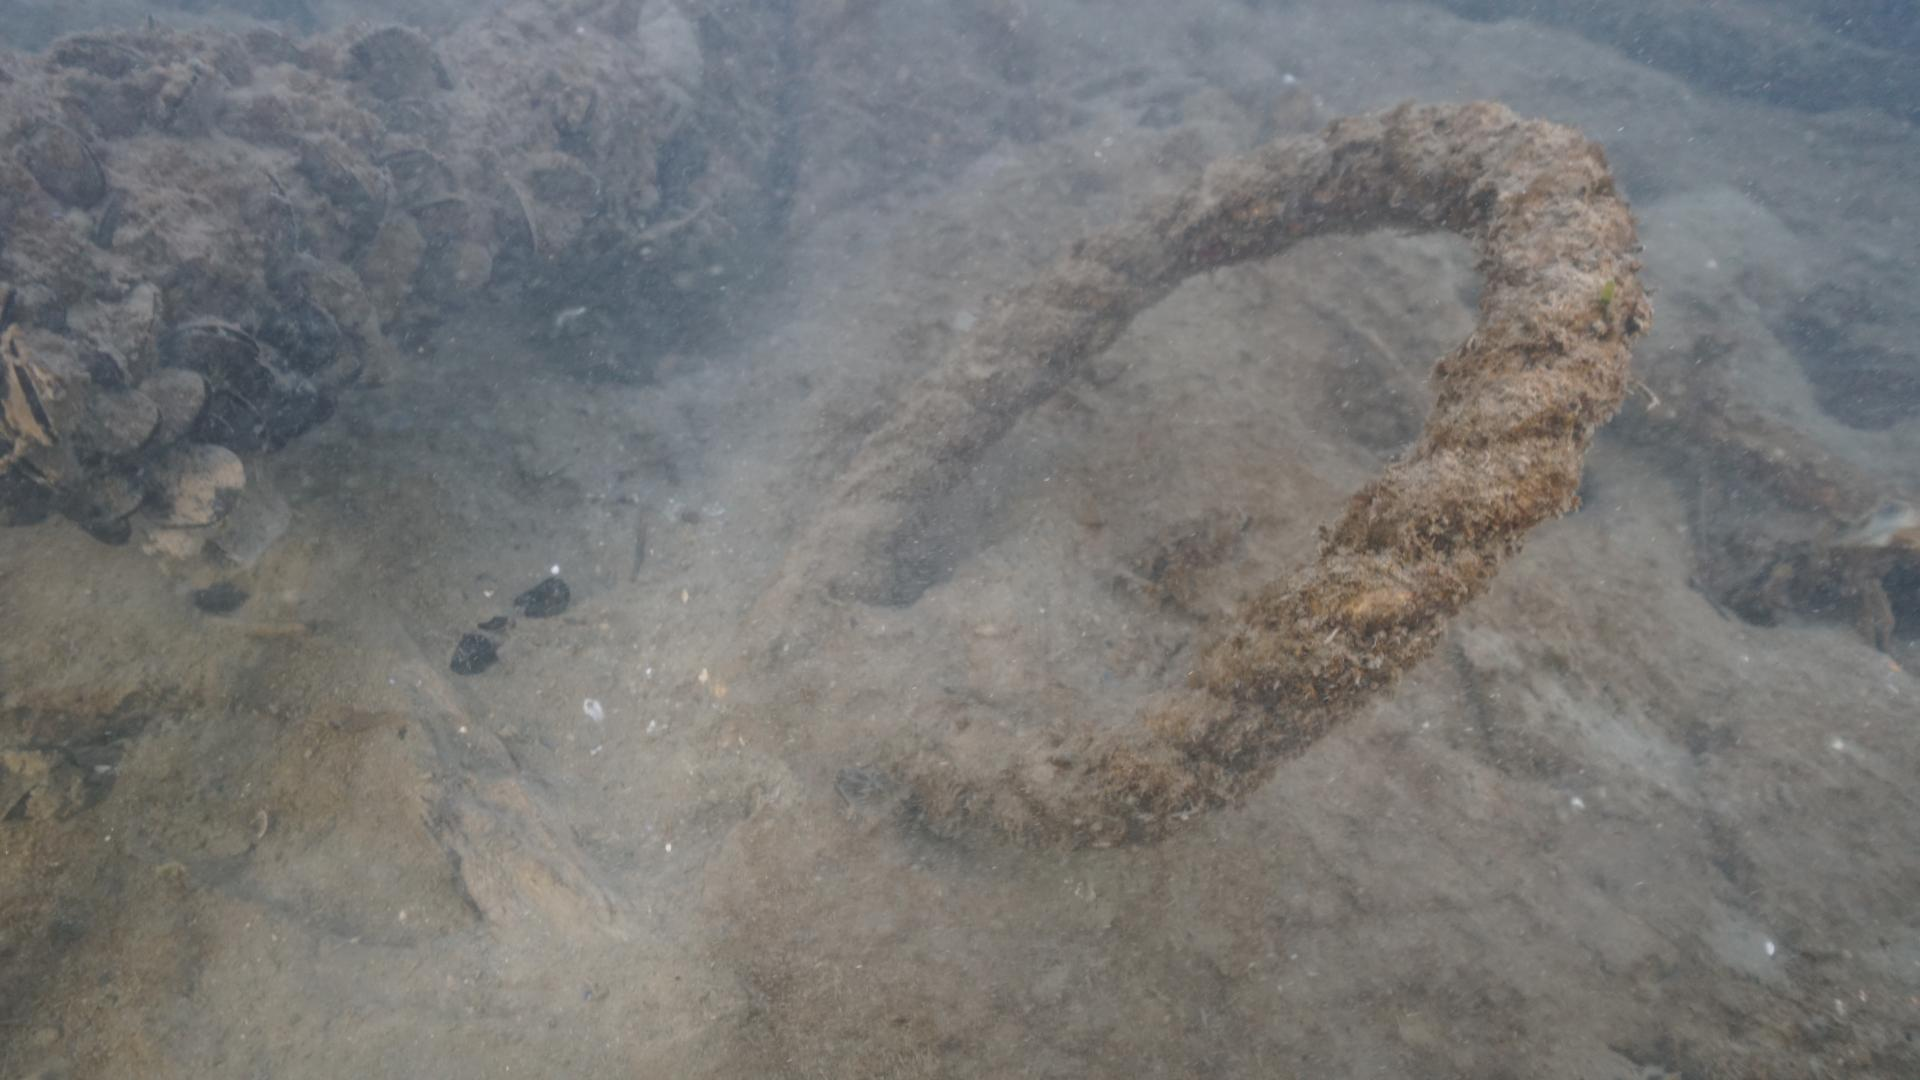rope: (761, 94, 1635, 858)
